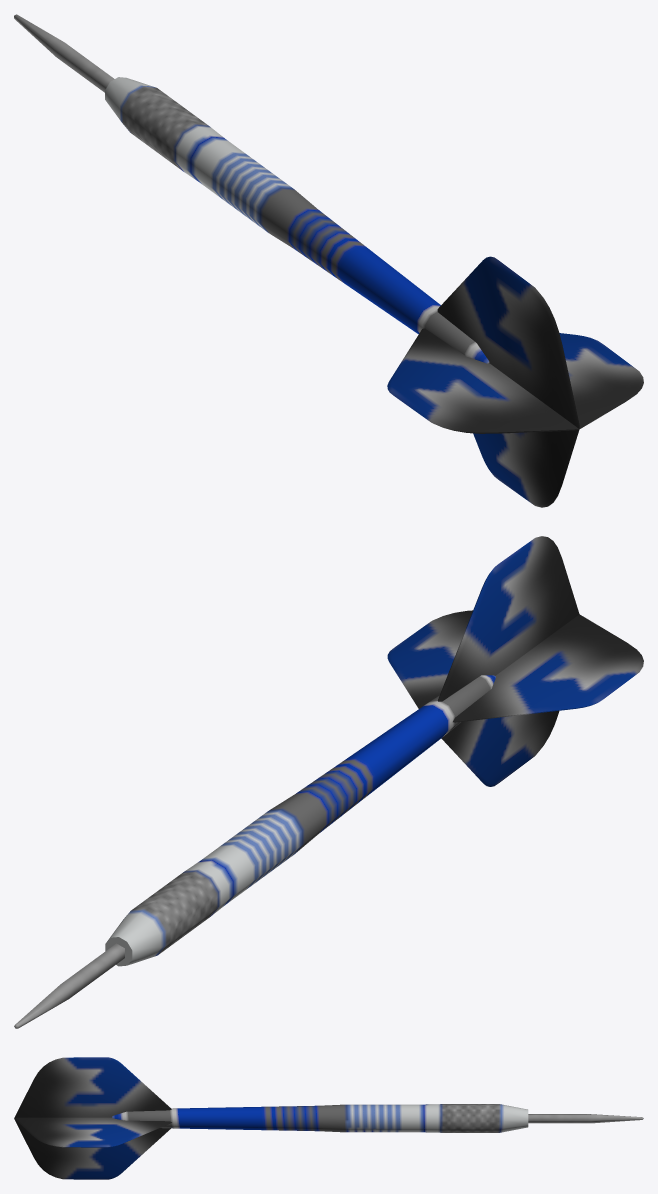
File: DartC.FBX
The picture shows the model from 3 angles, top to bottom: view 1: azimuth 30°, elevation 25°; view 2: azimuth 150°, elevation 25°; view 3: azimuth 270°, elevation 25°; orthographic projection. The views are drawn at different scales.
Visible parts, largest first — view 1: DartC_LOD0; view 2: DartC_LOD0; view 3: DartC_LOD0.
Boxes of the visible parts, box(x1,y1,x2,y2) form: DartC_LOD0: box(14, 14, 643, 507); DartC_LOD0: box(14, 536, 643, 1028); DartC_LOD0: box(14, 1057, 643, 1179).
Size of what is drawn, in the model's own units: 3.33 by 3.33 by 15.51.
